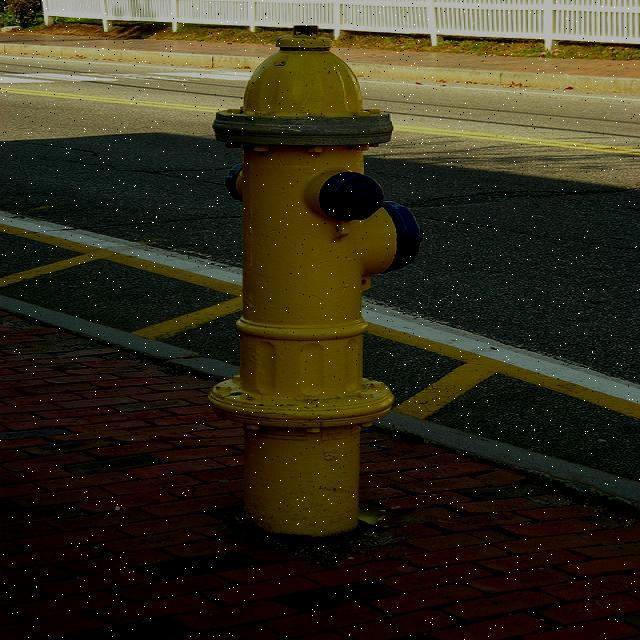fire_hydrant: (206, 22, 432, 551)
